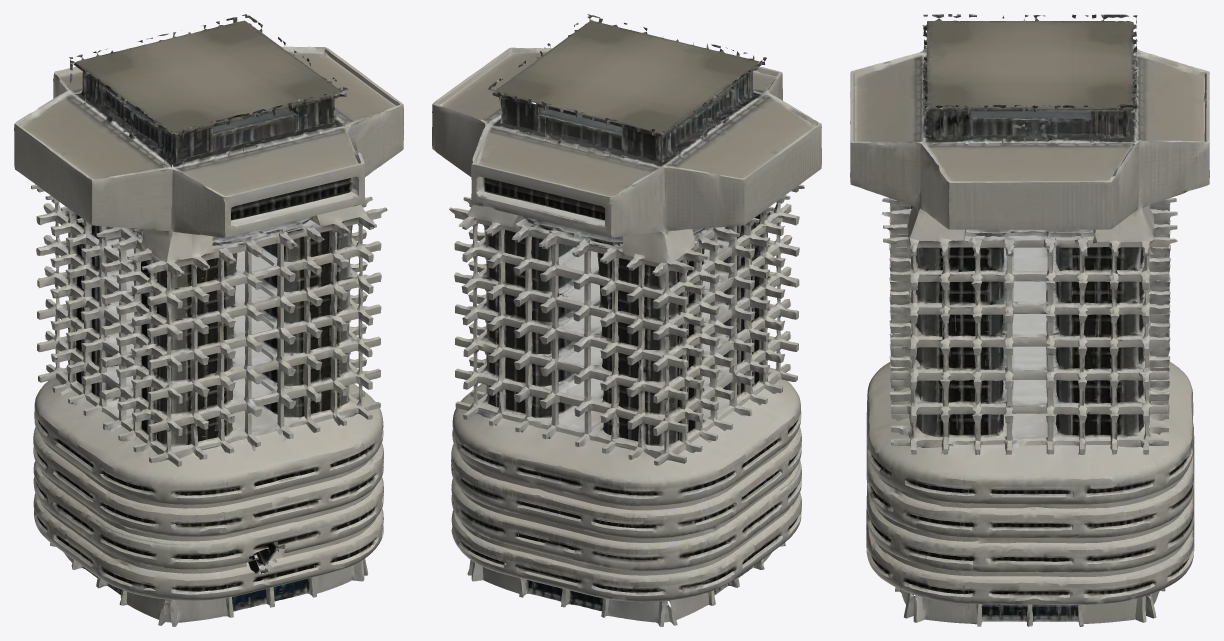
File: office_building.glb
3 views of the same model, side by side, from view 1: azimuth 30°, elevation 25°; view 2: azimuth 150°, elevation 25°; view 3: azimuth 270°, elevation 25° (orthographic). The views are drawn at different scales.
Parts seen in each view (by area): view 1: GMHQ; view 2: GMHQ; view 3: GMHQ.
Part boxes in pixels (x1=…): GMHQ: x1=14, y1=14, x2=403, y2=626; GMHQ: x1=432, y1=14, x2=821, y2=626; GMHQ: x1=850, y1=14, x2=1209, y2=626.
Bounding box in the file's own units: 0.9197 × 1.37 × 0.876.
1 material, 1 textured.
